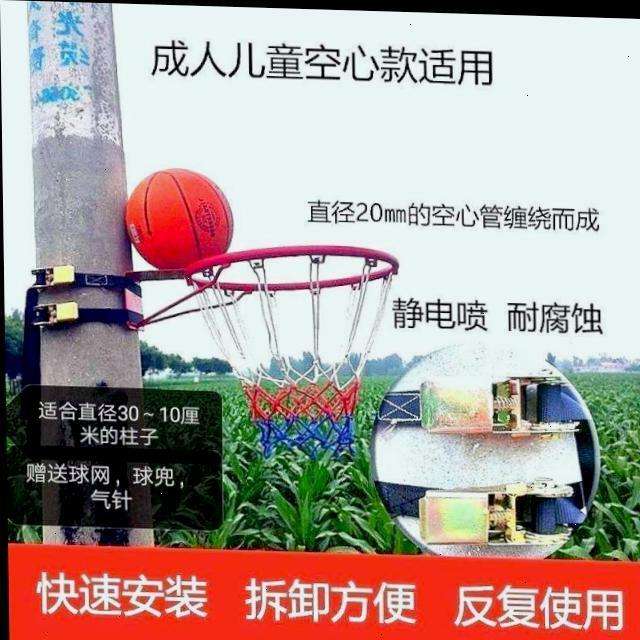rebound_hit: (123, 167, 233, 272)
